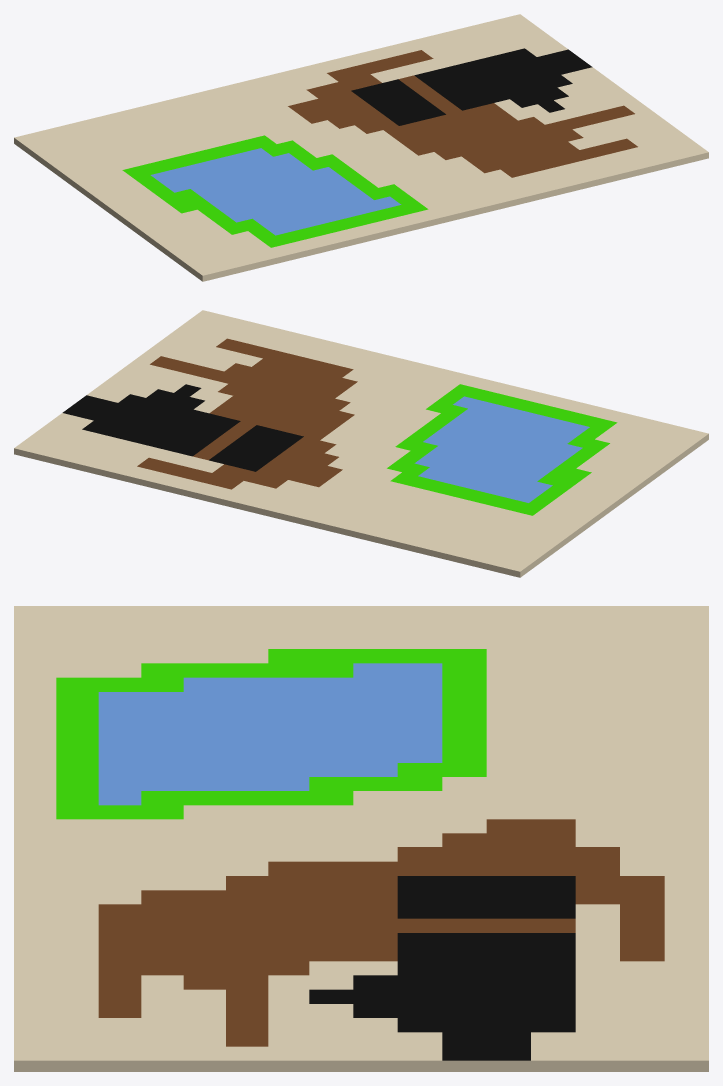
Rendered from drawing4.fbx.
The picture shows the model from 3 angles, top to bottom: view 1: azimuth 30°, elevation 25°; view 2: azimuth 150°, elevation 25°; view 3: azimuth 270°, elevation 25°; orthographic projection. The views are drawn at different scales.
Visible parts, largest first — view 1: Cube; view 2: Cube; view 3: Cube.
Boxes of the visible parts, x1,y1,x2,y2 form: Cube: (14, 14, 708, 281); Cube: (14, 310, 708, 577); Cube: (14, 606, 708, 1071).
Bounding box in the file's own units: 87 × 1 × 56.2.
